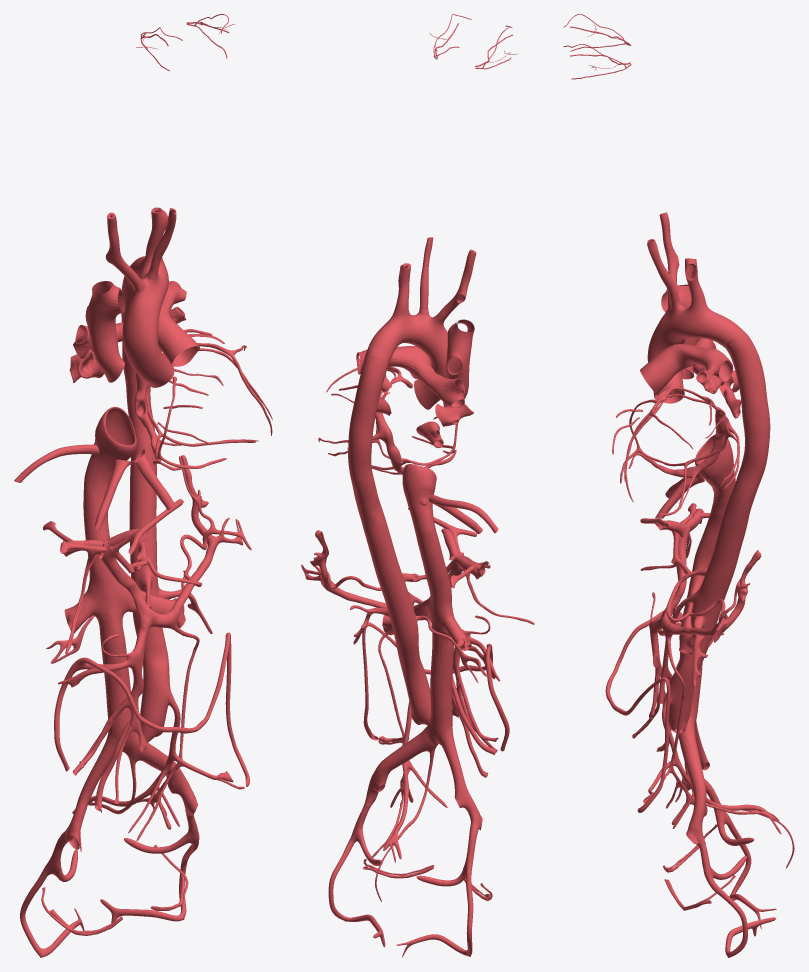
The model's file is vasculature-partial.glb.
The picture shows the model from 3 angles, left to right: view 1: azimuth 30°, elevation 25°; view 2: azimuth 150°, elevation 25°; view 3: azimuth 270°, elevation 25°; orthographic projection. The views are drawn at different scales.
Parts seen in each view (by area): view 1: vasculature-partial; view 2: vasculature-partial; view 3: vasculature-partial.
Boxes of the visible parts, bbox=[...] form: vasculature-partial: bbox=[14, 14, 272, 957]; vasculature-partial: bbox=[301, 14, 534, 957]; vasculature-partial: bbox=[563, 14, 794, 957].
Size of the model in its own units: 0.1928 by 0.7992 by 0.1849.
